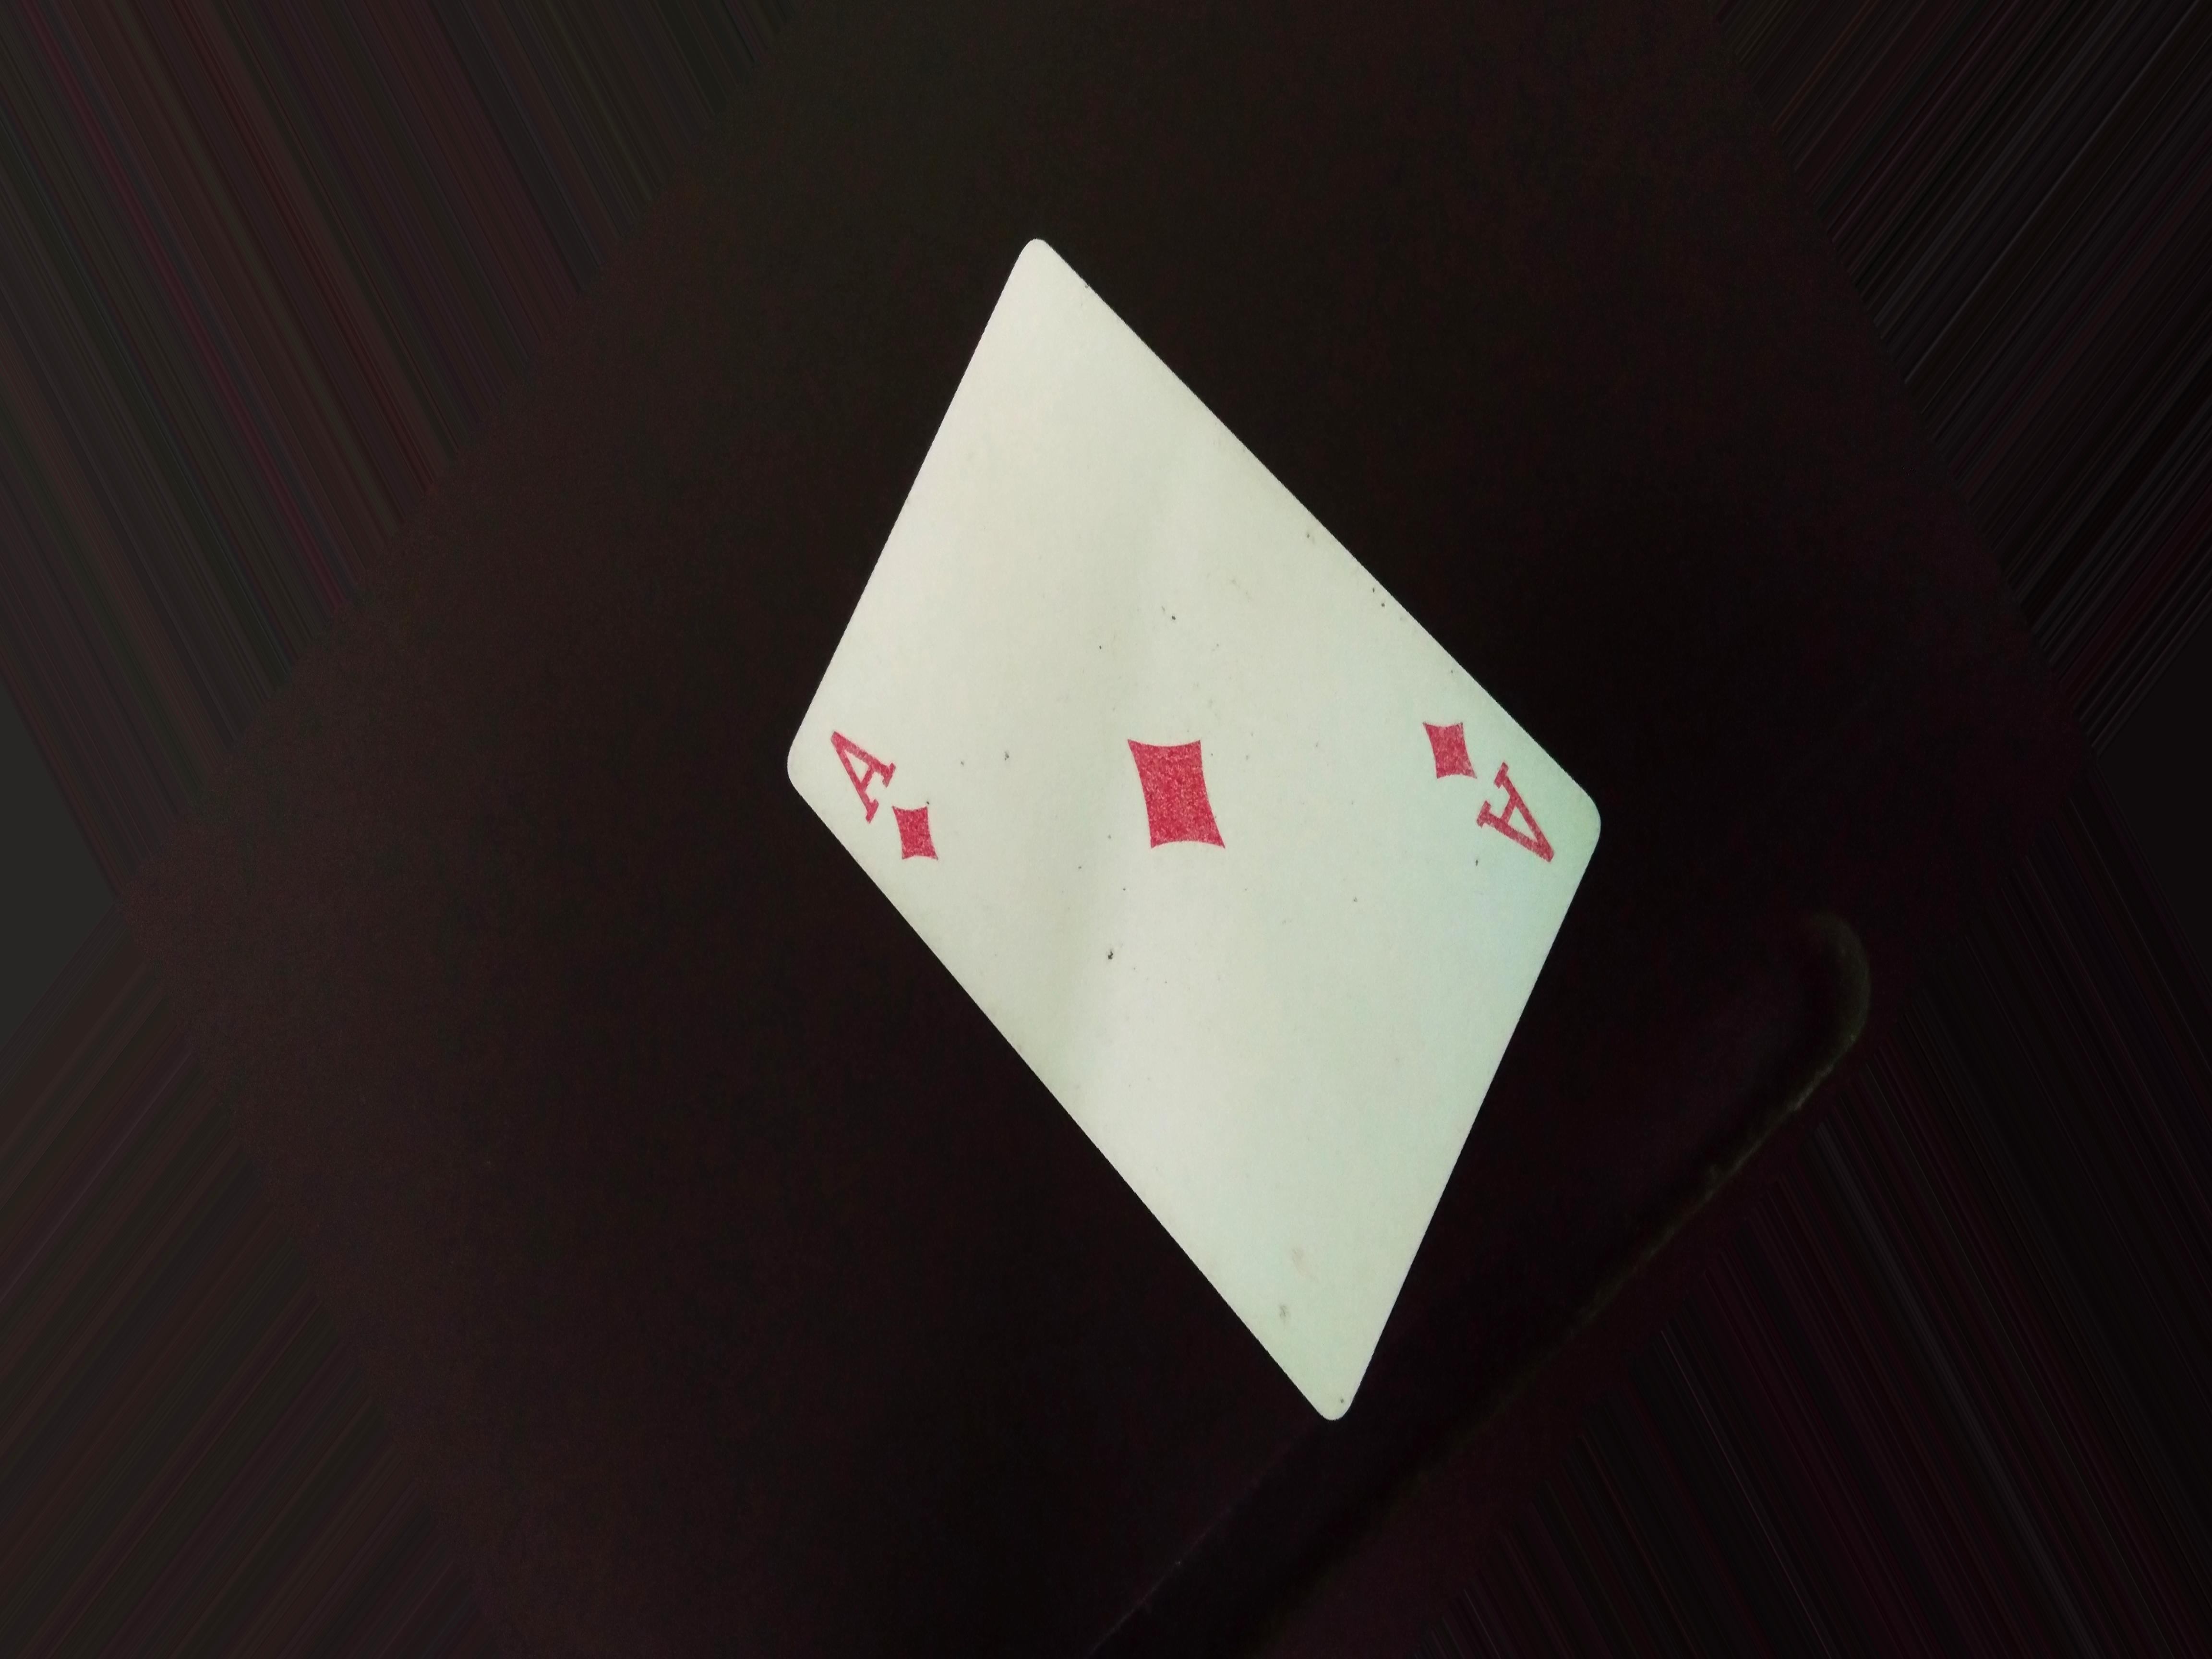AD: (1388, 697, 1599, 887)
